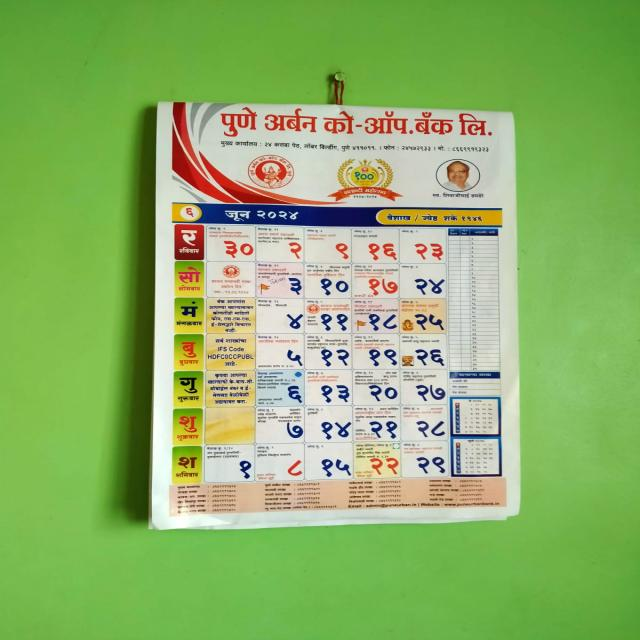Calender: (137, 88, 533, 540)
